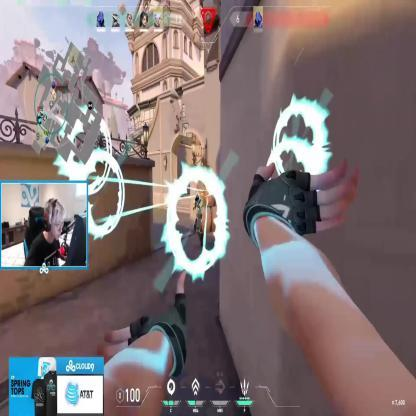enemy: (192, 192, 206, 251)
enemy_head: (196, 191, 199, 199)
